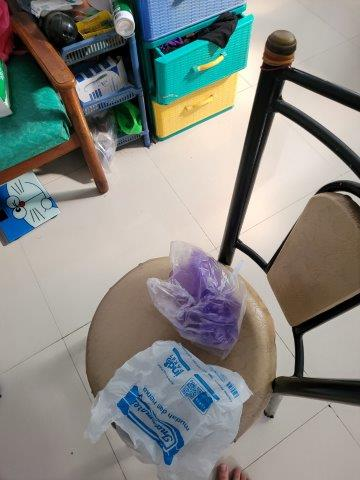plastik: (81, 341, 253, 480), (146, 242, 246, 353)
